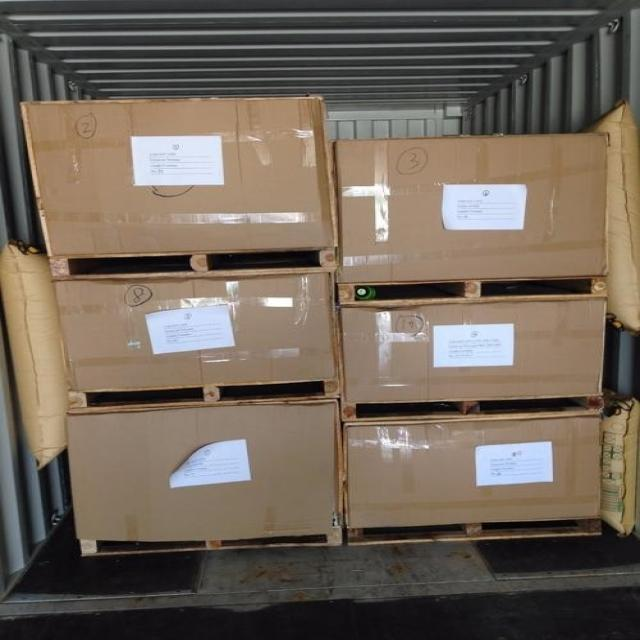box: (20, 95, 340, 257), (332, 132, 609, 282), (67, 399, 338, 541), (52, 272, 338, 393), (343, 412, 602, 529), (339, 297, 604, 401)
